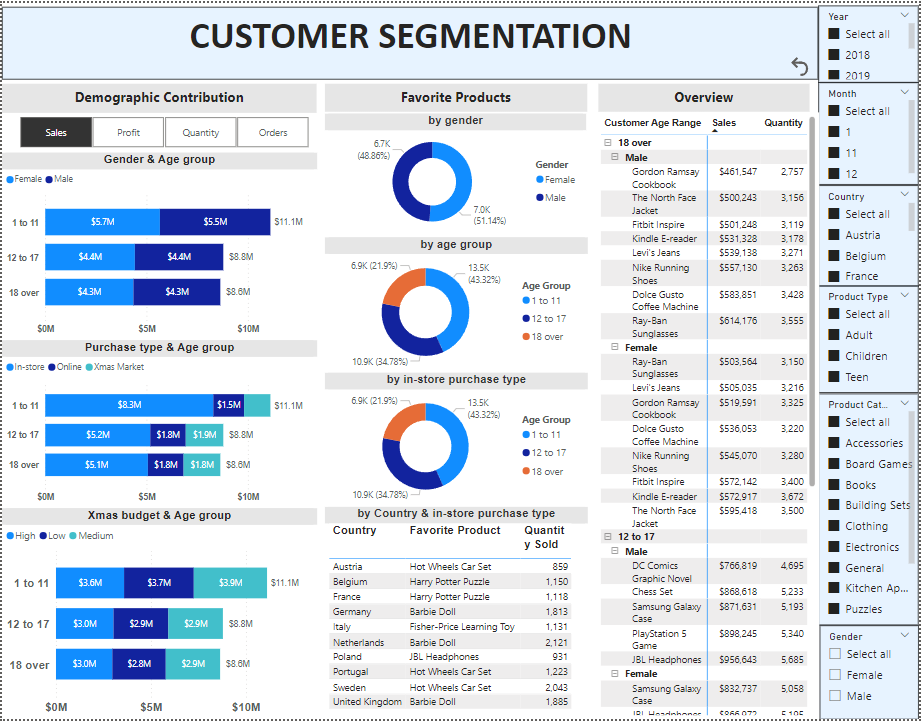

Layout of this report page (visuals, bound fields, positions):
{"tool":"powerbi","page":{"name":"Customer Segmentation","canvas":[1280,1000],"ordinal":2},"visuals":[{"type":"textbox","box":[0,5,1140,101.7],"z":0},{"type":"slicer","fields":{"Values":["Xmas Dataset.Date.Variation.Date Hierarchy.Year"]},"box":[1140,4.3,140,107.1],"z":1000},{"type":"slicer","fields":{"Values":["Xmas Dataset.Month"]},"box":[1140,111.4,140,142.9],"z":2000},{"type":"slicer","fields":{"Values":["Xmas Dataset.Country"]},"box":[1140,254.3,140,141.4],"z":3000},{"type":"slicer","fields":{"Values":["Xmas Dataset.Product Type"]},"box":[1140,395,140,150],"z":4000},{"type":"slicer","fields":{"Values":["Xmas Dataset.Product Category"]},"box":[1140,545,140,323.3],"z":5000},{"type":"slicer","fields":{"Values":["Metric Selection.Metric Selection"]},"box":[0,153.6,451.8,55.4],"z":6000},{"type":"barChart","title":"Gender & Age group","fields":{"Y":["Xmas Dataset.Total_Sales"],"Category":["Xmas Dataset.Customer Age Range"],"Series":["Xmas Dataset.Gender"]},"box":[0,208.3,440,261.7],"z":7000},{"type":"barChart","title":"Purchase type & Age group","fields":{"Y":["Xmas Dataset.Total_Sales"],"Category":["Xmas Dataset.Customer Age Range"],"Series":["Xmas Dataset.Purchase Type"]},"box":[0,470,440,235],"z":8000},{"type":"pivotTable","title":"Overview","fields":{"Rows":["Xmas Dataset.Customer Age Range","Xmas Dataset.Gender","Xmas Dataset.Product Name"],"Values":["Xmas Dataset.Total Sales Measure","Xmas Dataset.Overall_Quantity"]},"box":[831.7,153.3,310,846.7],"z":9000},{"type":"textbox","box":[451.8,112.5,366.1,39.3],"z":10000},{"type":"donutChart","title":"by gender","fields":{"Category":["Xmas Dataset.Gender"],"Y":["Xmas Dataset.Favorite Product Quantity Count"]},"box":[451.7,155,365,171.7],"z":11000},{"type":"donutChart","title":"by age group","fields":{"Category":["Xmas Dataset.Customer Age Range"],"Y":["Xmas Dataset.Favorite Product Quantity Count"]},"box":[451.4,327.1,367.1,190],"z":12000},{"type":"donutChart","title":"by in-store purchase type","fields":{"Category":["Xmas Dataset.Customer Age Range"],"Y":["Xmas Dataset.Favorite Product Quantity Count"]},"box":[451.4,517.1,367.1,187.1],"z":13000},{"type":"textbox","box":[0,112.5,439.3,41.1],"z":14000},{"type":"barChart","title":"Xmas budget & Age group","fields":{"Y":["Xmas Dataset.Total_Sales"],"Category":["Xmas Dataset.Customer Age Range"],"Series":["Xmas Dataset.Xmas Budget"]},"box":[0,705,440,295],"z":15000},{"type":"textbox","box":[832.1,112.5,294.6,39.3],"z":16000},{"type":"tableEx","title":"by Country & in-store purchase type","fields":{"Values":["Xmas Dataset.Country","Xmas Dataset.Favorite Product By Country","Xmas Dataset.Favorite Product Quantity Sold"]},"box":[450,704.3,367.1,295.7],"z":17000},{"type":"actionButton","title":"Reset Filters","box":[1095.7,71.4,44.3,35.7],"z":18000},{"type":"slicer","fields":{"Values":["Xmas Dataset.Gender"]},"box":[1141.7,868.3,138.3,131.7],"z":19000}]}

Visuals, with their boxes on the page's 1280x1000 design canvas (x1, y1, x2, y2). These are canvas units, not pixel positions in the 923x722 screenshot, which may show the page scaled, cropped or inside an application window:
textbox: 0, 5, 1140, 107
slicer - Xmas Dataset.Date.Variation.Date Hierarchy.Year: 1140, 4, 1280, 111
slicer - Xmas Dataset.Month: 1140, 111, 1280, 254
slicer - Xmas Dataset.Country: 1140, 254, 1280, 396
slicer - Xmas Dataset.Product Type: 1140, 395, 1280, 545
slicer - Xmas Dataset.Product Category: 1140, 545, 1280, 868
slicer - Metric Selection.Metric Selection: 0, 154, 452, 209
"Gender & Age group" barChart: 0, 208, 440, 470
"Purchase type & Age group" barChart: 0, 470, 440, 705
"Overview" pivotTable: 832, 153, 1142, 1000
textbox: 452, 112, 818, 152
"by gender" donutChart: 452, 155, 817, 327
"by age group" donutChart: 451, 327, 818, 517
"by in-store purchase type" donutChart: 451, 517, 818, 704
textbox: 0, 112, 439, 154
"Xmas budget & Age group" barChart: 0, 705, 440, 1000
textbox: 832, 112, 1127, 152
"by Country & in-store purchase type" tableEx: 450, 704, 817, 1000
"Reset Filters" actionButton: 1096, 71, 1140, 107
slicer - Xmas Dataset.Gender: 1142, 868, 1280, 1000
